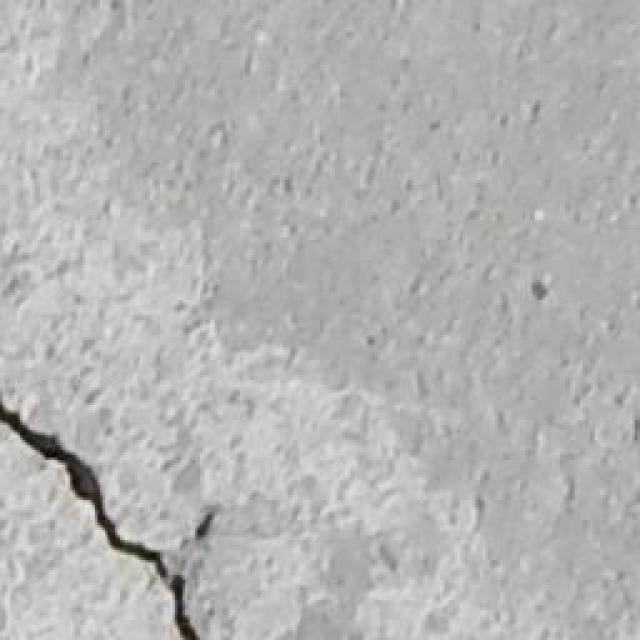concrete-crack: (0, 402, 205, 640)
